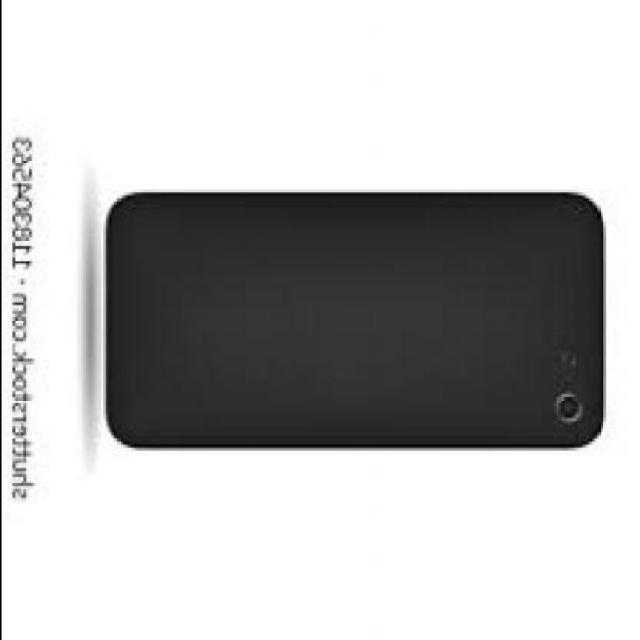fake: (107, 192, 604, 448)
